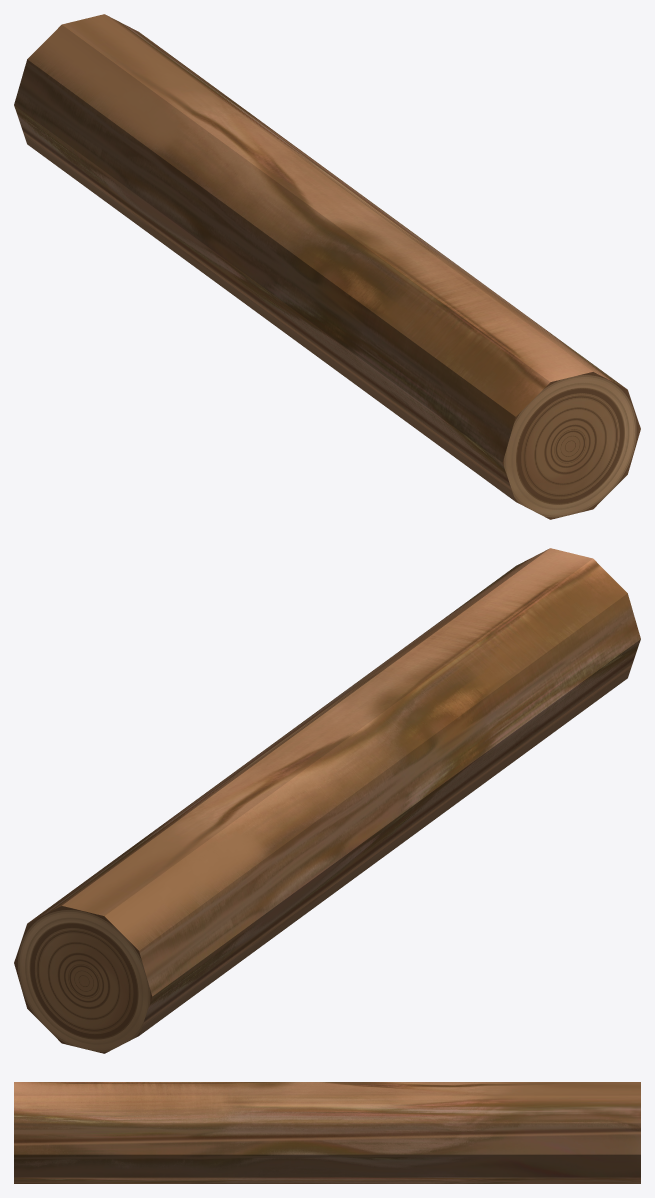
File: M_wood.fbx
3 renders of one model, top to bottom at view 1: azimuth 30°, elevation 25°; view 2: azimuth 150°, elevation 25°; view 3: azimuth 270°, elevation 25°, orthographic. The views are drawn at different scales.
Parts seen in each view (by area): view 1: M_wood; view 2: M_wood; view 3: M_wood.
Part boxes in pixels (x1,y1,x2,y2): M_wood: (14,14,640,519); M_wood: (14,548,640,1053); M_wood: (14,1082,640,1183).
Size of the model in its own units: 100 by 95.11 by 612.
1 material, 1 textured.
